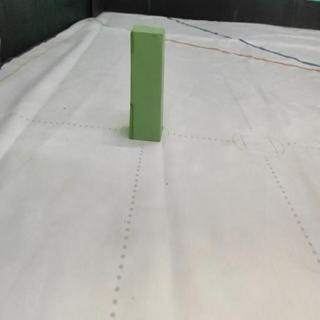greenbox: (127, 21, 164, 144)
